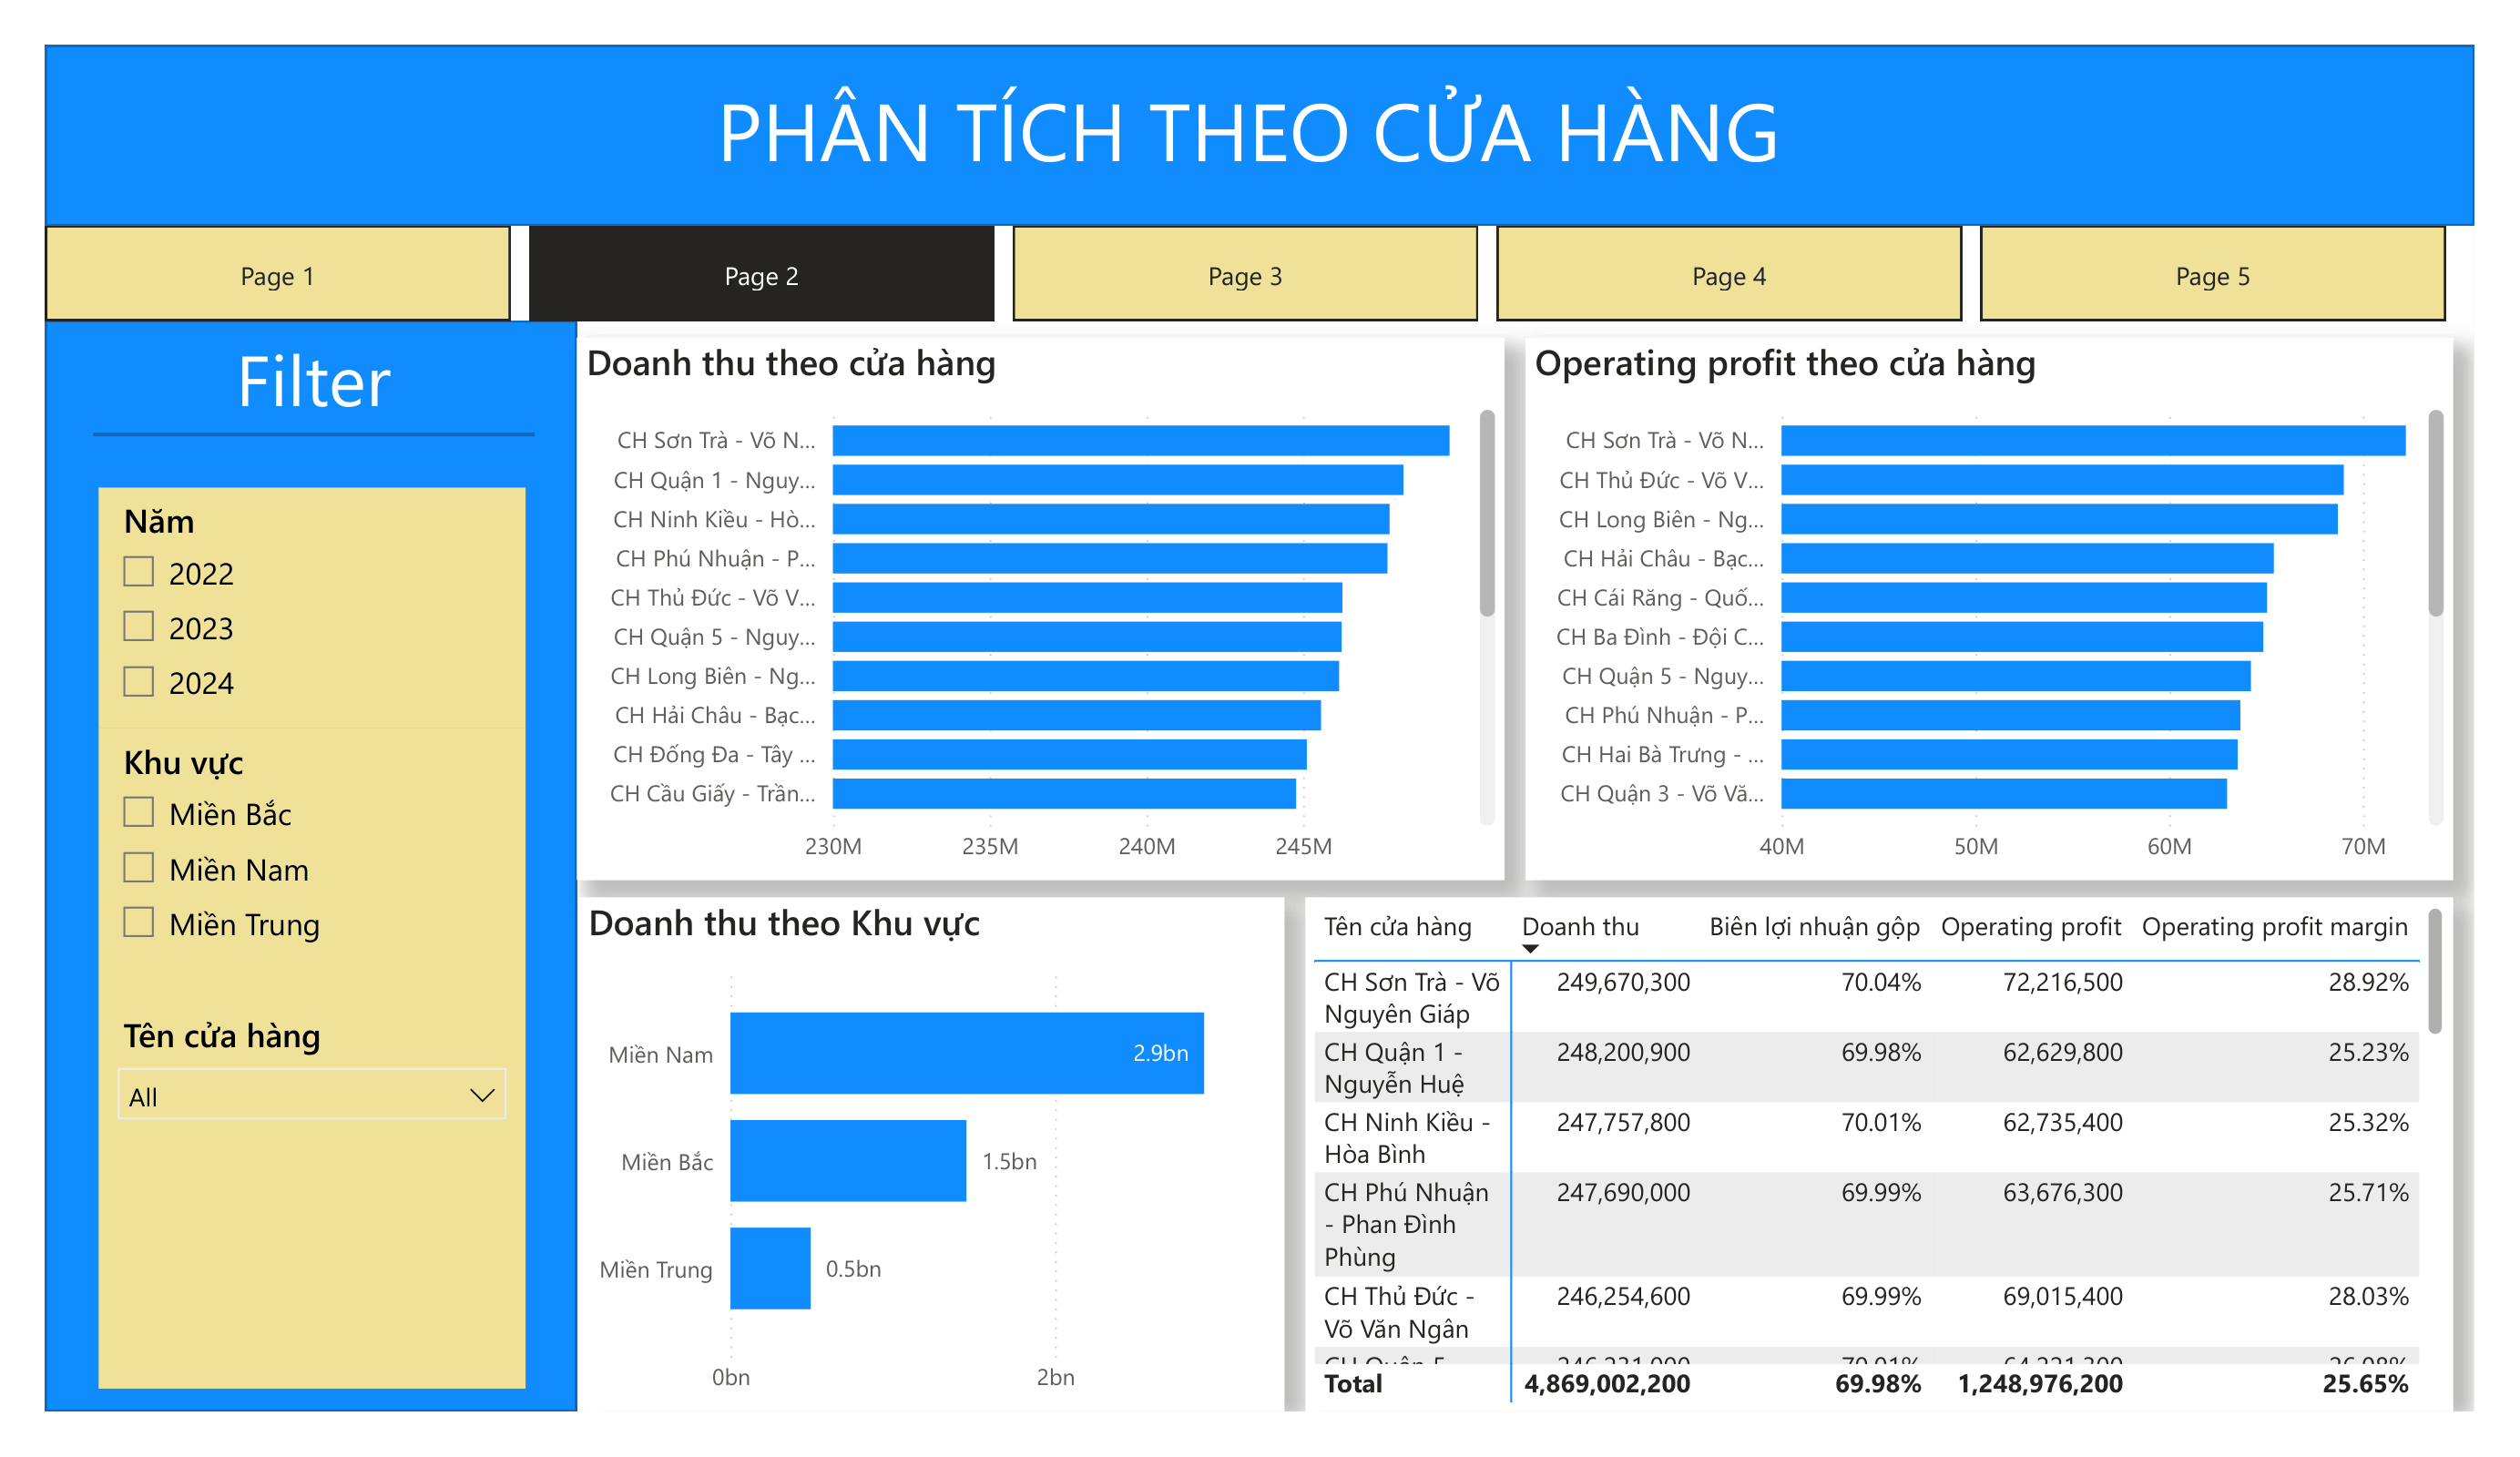

The dashboard page shown, as its layout file describes it:
{"tool":"powerbi","page":{"name":"Page 2","canvas":[1280,720],"ordinal":1},"visuals":[{"type":"shape","box":[0,145,280,575],"z":0},{"type":"textbox","box":[31.7,145,218.3,60],"z":1000},{"type":"shape","box":[25,193.3,233.3,23.3],"z":2000},{"type":"slicer","fields":{"Values":["D_Date.Năm"]},"box":[27.5,232.5,225,127.5],"z":3000},{"type":"slicer","fields":{"Values":["dim_store.Khu vực"]},"box":[27.5,360,225,143.8],"z":4000},{"type":"slicer","fields":{"Values":["dim_store.Tên cửa hàng"]},"box":[27.5,503.8,225,203.8],"z":5000},{"type":"pageNavigator","box":[0,95,1268.8,50],"z":6000},{"type":"shape","box":[0,0,1280,95],"z":7000},{"type":"textbox","box":[348.8,10,582.5,75],"z":8000},{"type":"clusteredBarChart","title":"Doanh thu theo cửa hàng","fields":{"Category":["dim_store.Tên cửa hàng"],"Y":["M.Doanh thu"]},"box":[280,153.8,488.8,286.2],"z":9000},{"type":"clusteredBarChart","title":"Operating profit theo cửa hàng","fields":{"Category":["dim_store.Tên cửa hàng"],"Y":["M.Operating profit"]},"box":[780,153.8,488.8,286.2],"z":10000},{"type":"clusteredBarChart","title":"Doanh thu theo Khu vực","fields":{"Category":["dim_store.Khu vực"],"Y":["M.Doanh thu"]},"box":[281.2,448.8,371.2,271.2],"z":11000},{"type":"pivotTable","fields":{"Rows":["dim_store.Tên cửa hàng"],"Values":["M.Doanh thu","M.Biên lợi nhuận gộp","M.Operating profit","M.Operating profit margin"]},"box":[663.8,448.8,605,271.2],"z":12000}]}

Visuals, with their boxes on the page's 1280x720 design canvas (x1, y1, x2, y2). These are canvas units, not pixel positions in the 2520x1457 screenshot, which may show the page scaled, cropped or inside an application window:
shape: x1=0 y1=145 x2=280 y2=720
textbox: x1=32 y1=145 x2=250 y2=205
shape: x1=25 y1=193 x2=258 y2=217
slicer - D_Date.Năm: x1=28 y1=232 x2=252 y2=360
slicer - dim_store.Khu vực: x1=28 y1=360 x2=252 y2=504
slicer - dim_store.Tên cửa hàng: x1=28 y1=504 x2=252 y2=708
pageNavigator: x1=0 y1=95 x2=1269 y2=145
shape: x1=0 y1=0 x2=1280 y2=95
textbox: x1=349 y1=10 x2=931 y2=85
"Doanh thu theo cửa hàng" clusteredBarChart: x1=280 y1=154 x2=769 y2=440
"Operating profit theo cửa hàng" clusteredBarChart: x1=780 y1=154 x2=1269 y2=440
"Doanh thu theo Khu vực" clusteredBarChart: x1=281 y1=449 x2=652 y2=720
pivotTable - dim_store.Tên cửa hàng x M.Doanh thu: x1=664 y1=449 x2=1269 y2=720
